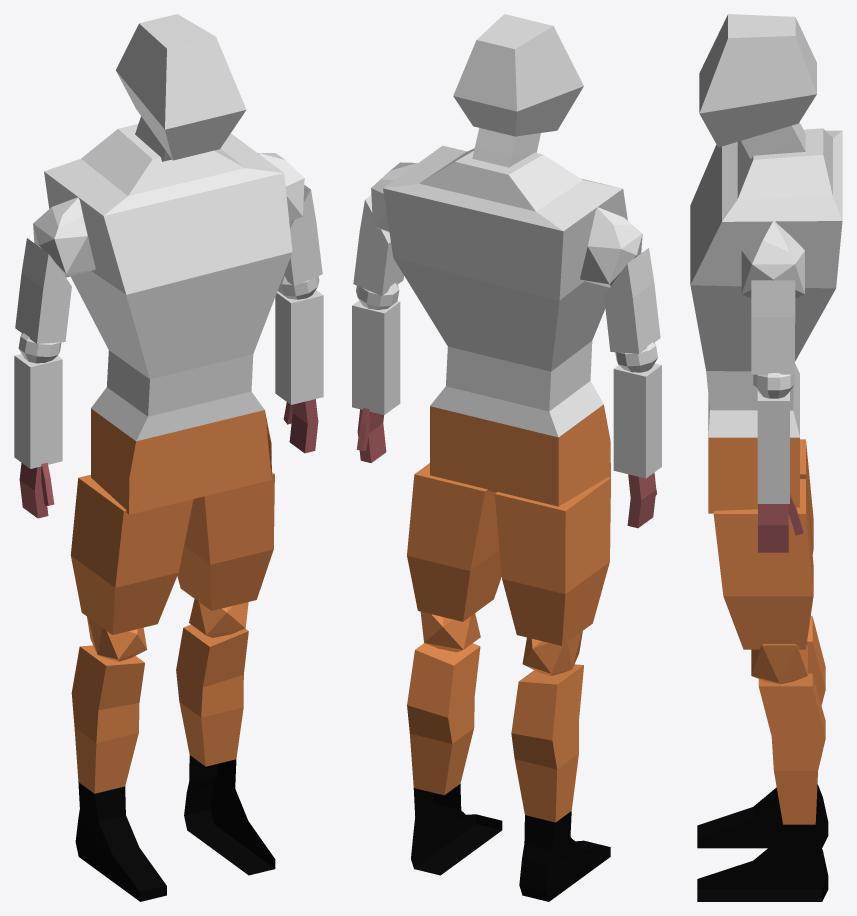
File: cashierPeople.fbx
3 views of the same model, side by side, from view 1: azimuth 30°, elevation 25°; view 2: azimuth 150°, elevation 25°; view 3: azimuth 270°, elevation 25° (orthographic).
Visible parts, largest first — view 1: Cube; view 2: Cube; view 3: Cube.
Boxes of the visible parts, x1,y1,x2,y2 form: Cube: (14,14,323,901); Cube: (352,14,661,901); Cube: (690,14,842,901).
Bounding box in the file's own units: 157 × 421 × 68.99.
